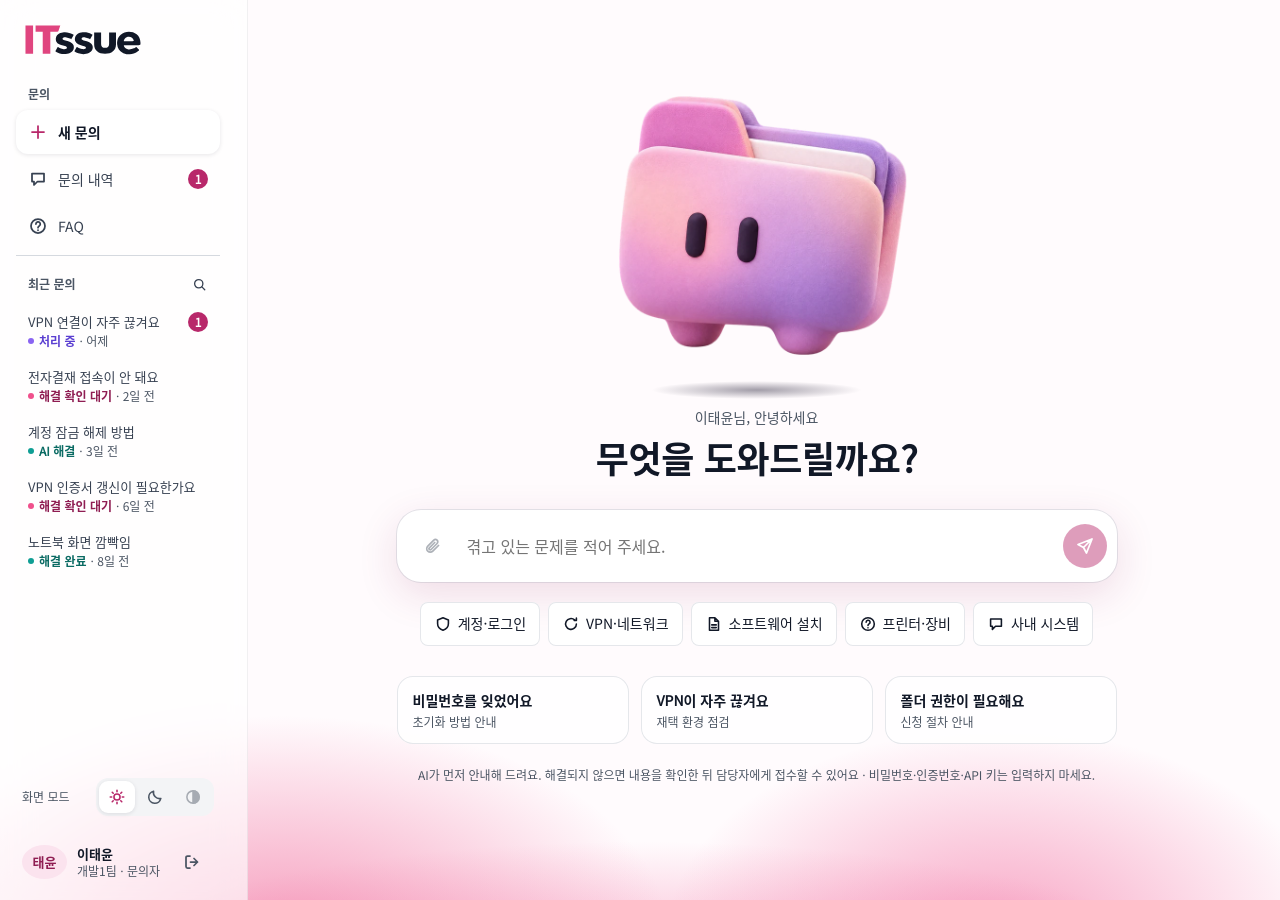
Scenario: 문의 내역 화면 › 문의를 누르면 그 대화로 가고, 사이드바의 검색 아이콘은 검색 칸에 초점을 둔다
Click the button named "최근 문의 검색" at (199, 284), box [186, 271, 212, 297]
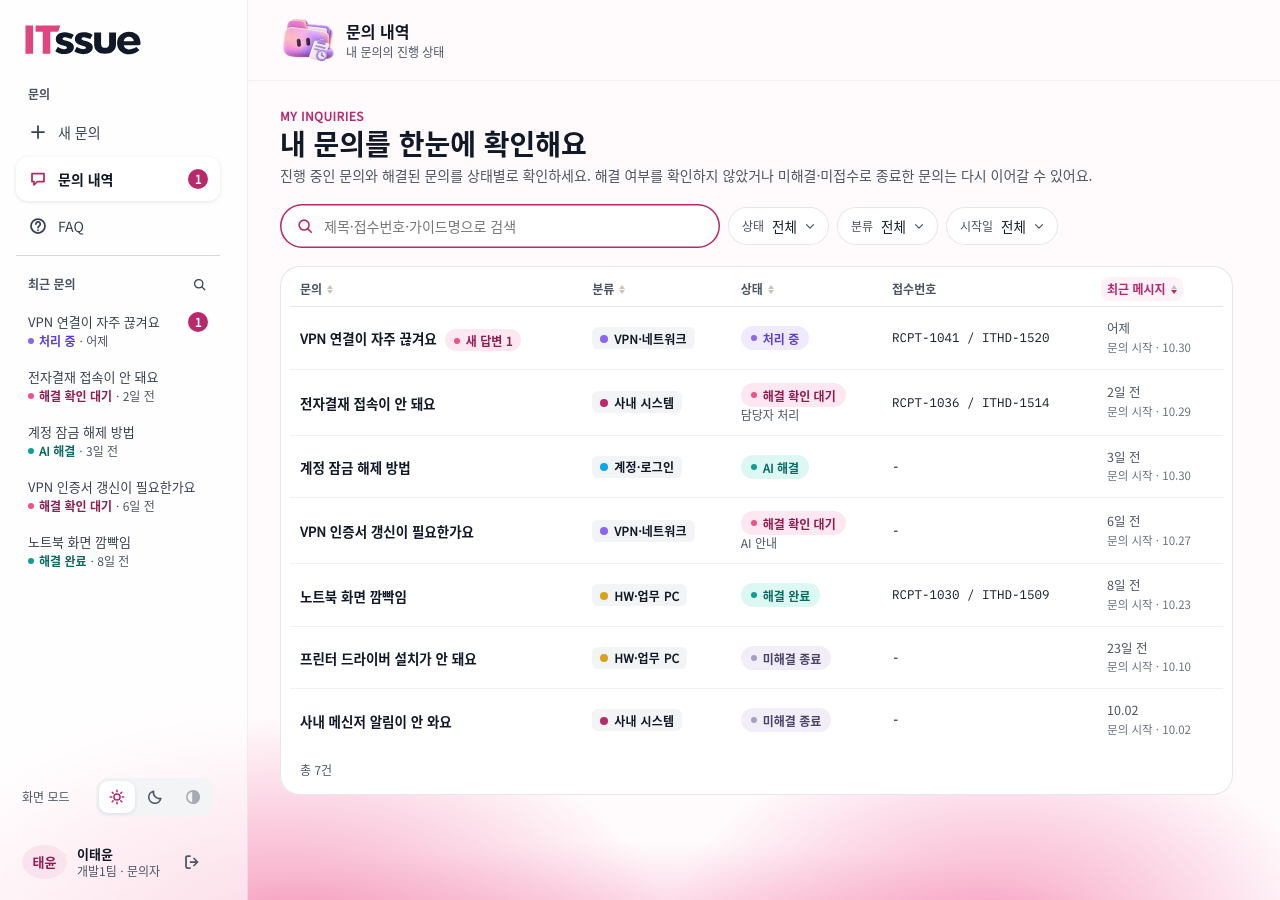
Click the button "노트북 화면 깜빡임" at (353, 596), box [300, 584, 407, 608]
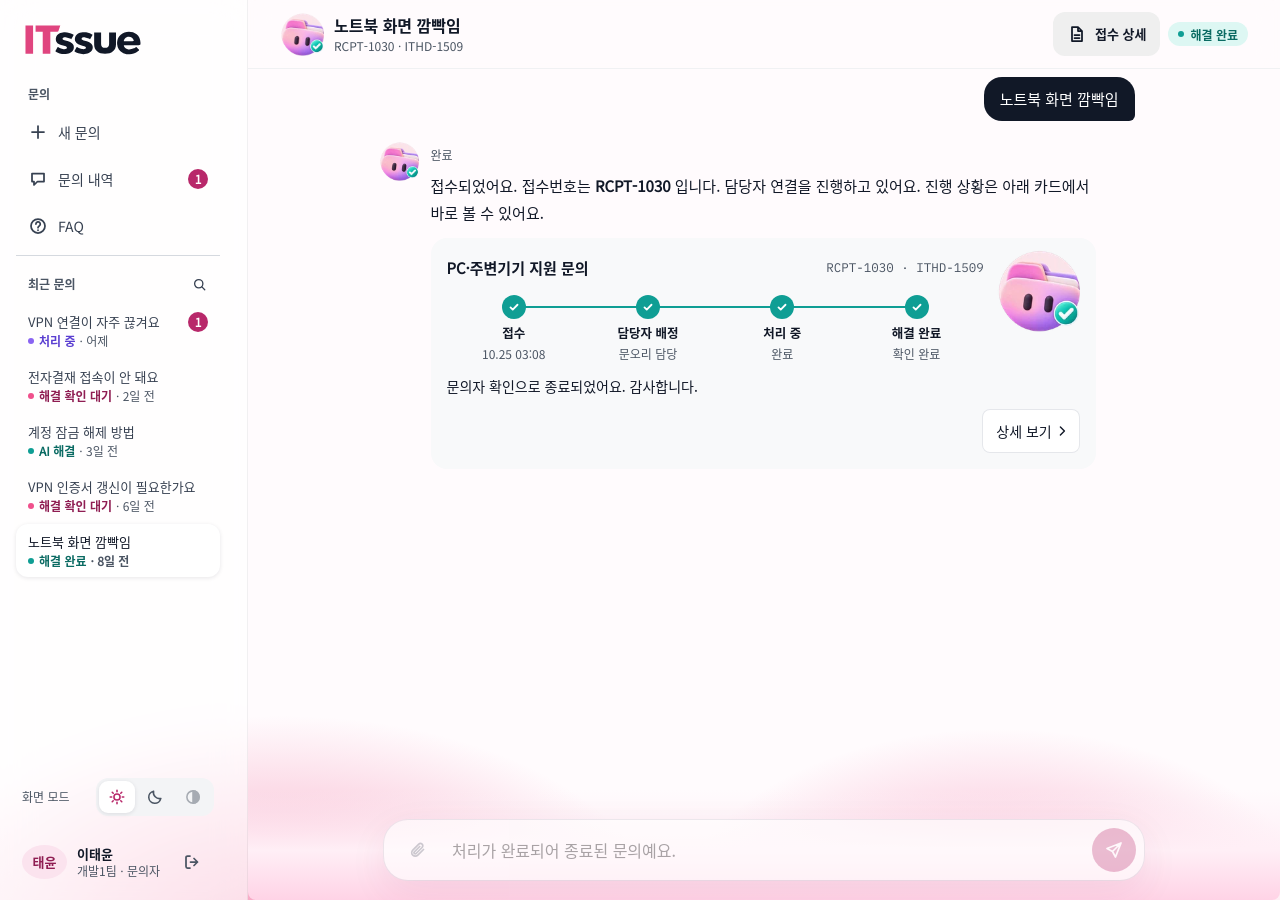
Result: the heading "노트북 화면 깜빡임" is shown at [334, 13, 463, 37]
